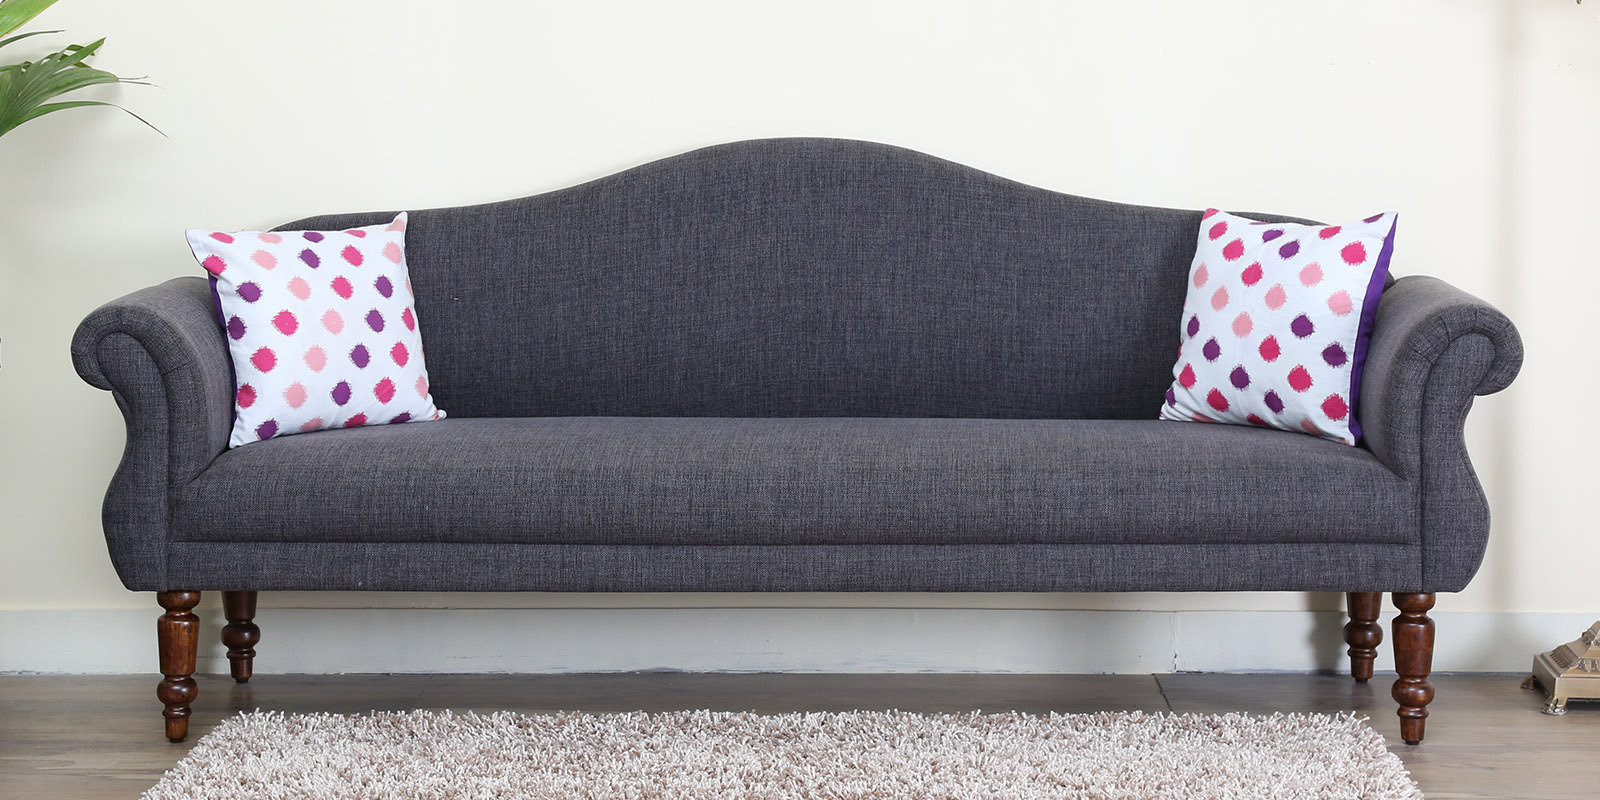Harleston Three Seater Sofa in Provincial Teak Finish by Amberville: (69, 121, 1537, 790)
